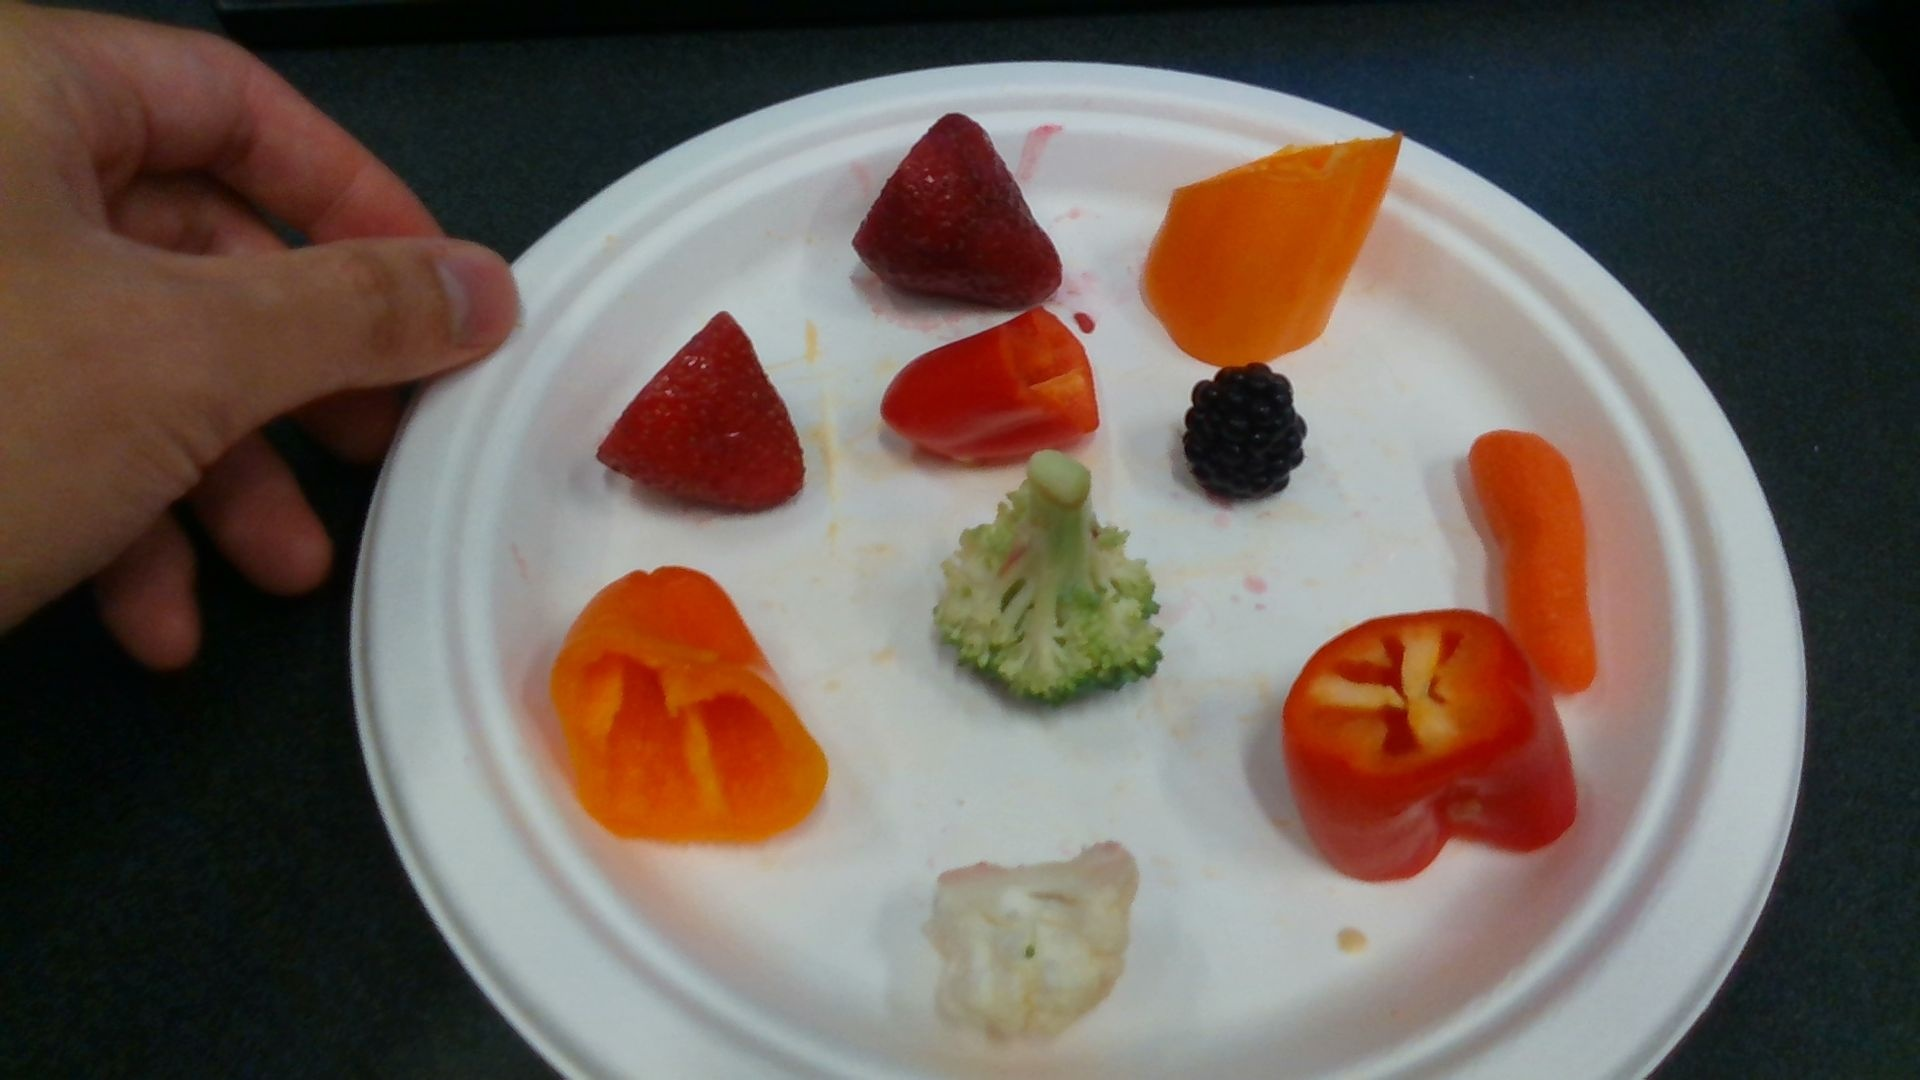bell_pepper: (1284, 611, 1577, 878), (550, 571, 827, 841), (880, 310, 1100, 462)
blackberry: (1185, 367, 1305, 505)
broccoli: (935, 454, 1160, 705)
carrot: (1470, 431, 1597, 695)
cauliflower: (938, 841, 1135, 1040)
strawberry: (599, 315, 804, 512), (855, 113, 1062, 301)
